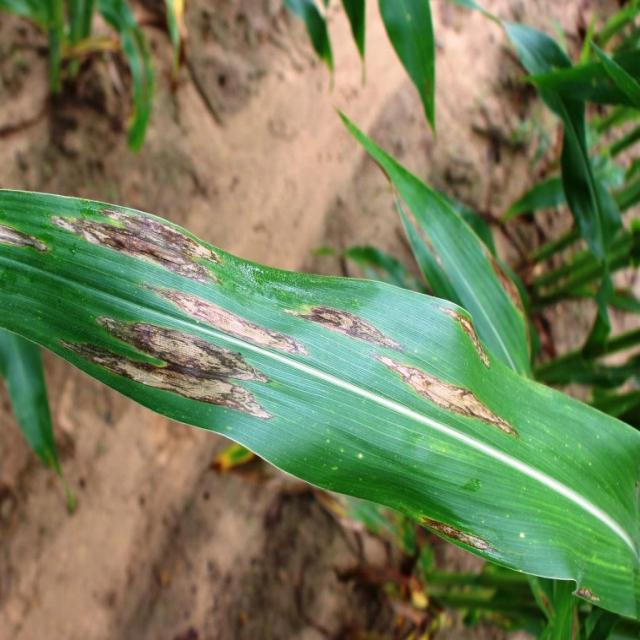blight: (78, 220, 286, 410)
